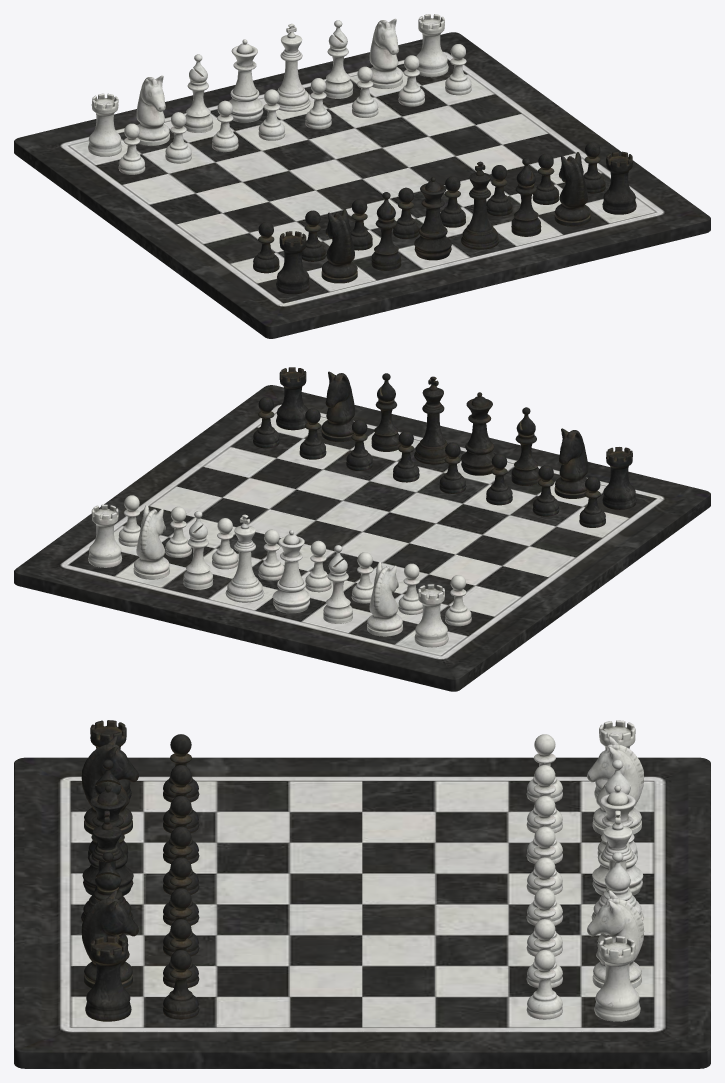
3 renders of one model, top to bottom at view 1: azimuth 30°, elevation 25°; view 2: azimuth 150°, elevation 25°; view 3: azimuth 270°, elevation 25°, orthographic. The views are drawn at different scales.
Visible parts, largest first — view 1: board, piece_queen_black, piece_knight_black_01, piece_knight_black_02, piece_queen_white, piece_knight_white_02, piece_knight_white_01, piece_king_black, piece_king_white, piece_rook_black_01, piece_rook_black_02, piece_rook_white_02 (+21 smaller); view 2: board, piece_queen_white, piece_knight_white_01, piece_knight_white_02, piece_queen_black, piece_knight_black_01, piece_king_white, piece_knight_black_02, piece_king_black, piece_rook_white_02, piece_rook_black_01, piece_rook_white_01 (+21 smaller); view 3: board, piece_rook_black_02, piece_rook_white_01, piece_knight_black_02, piece_knight_white_01, piece_knight_black_01, piece_knight_white_02, piece_queen_white, piece_queen_black, piece_pawn_white_01, piece_pawn_black_08, piece_king_black (+21 smaller).
Part boxes in pixels (x1,y1,x2,y2): board: (14,32,710,338); piece_queen_black: (414,177,451,260); piece_knight_black_01: (321,209,357,283); piece_knight_black_02: (554,152,590,226); piece_queen_white: (228,39,263,122); piece_knight_white_02: (136,75,169,145); piece_knight_white_01: (369,18,402,88); piece_king_black: (461,161,499,249); piece_king_white: (277,23,310,111); piece_rook_black_01: (276,231,310,294); piece_rook_black_02: (602,151,636,214); piece_rook_white_02: (88,93,122,156); board: (14,385,710,691); piece_queen_white: (272,530,310,613); piece_knight_white_01: (133,505,169,579); piece_knight_white_02: (367,562,402,636); piece_queen_black: (461,392,495,475); piece_knight_black_01: (554,428,588,498); piece_king_white: (225,514,264,602); piece_knight_black_02: (321,371,354,442); piece_king_black: (414,376,447,464); piece_rook_white_02: (414,584,448,647); piece_rook_black_01: (602,447,636,509); piece_rook_white_01: (88,504,122,567); board: (14,757,710,1068); piece_rook_black_02: (85,936,131,1021); piece_rook_white_01: (594,936,640,1021); piece_knight_black_02: (81,890,138,988); piece_knight_white_01: (587,890,644,988); piece_knight_black_01: (81,736,138,834); piece_knight_white_02: (587,736,644,834); piece_queen_white: (592,785,643,895); piece_queen_black: (82,785,133,895); piece_pawn_white_01: (526,950,562,1019); piece_pawn_black_08: (163,950,199,1019); piece_king_black: (81,810,133,921).
Size of the model in its own units: 0.5532 by 0.1124 by 0.5532.
Materials: 3 (3 with a texture image).
